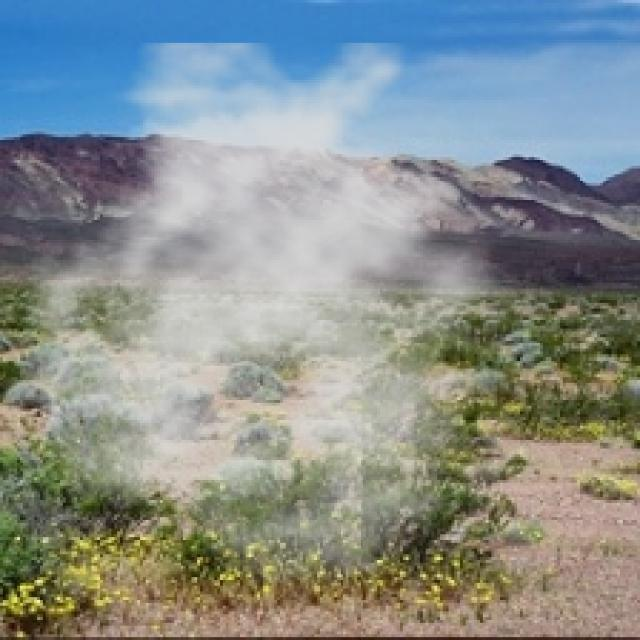Smoke: (0, 42, 557, 588)
